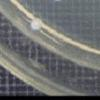white: (27, 15, 45, 33)
